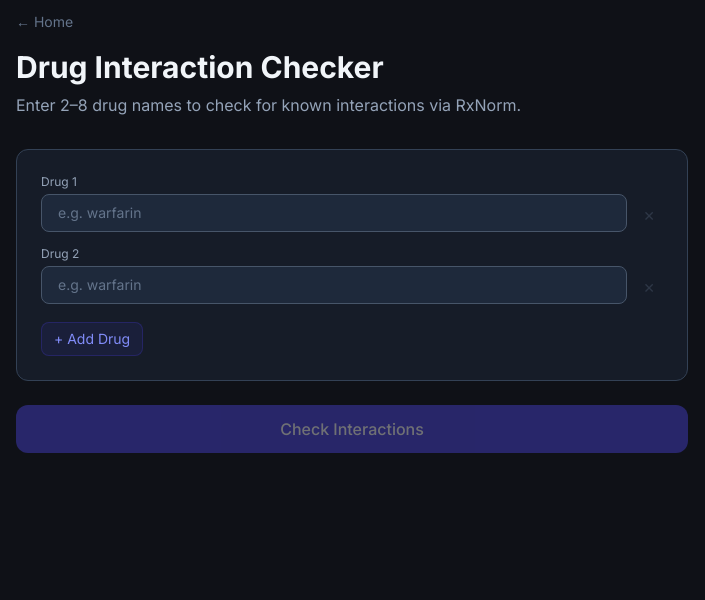
Test: InteractionsClient › shows no-interaction success message when empty interactions returned
In the field with test id "drug-input-0": [334, 213] box top-left (41, 194), bottom-right (627, 232), type "tylenol"
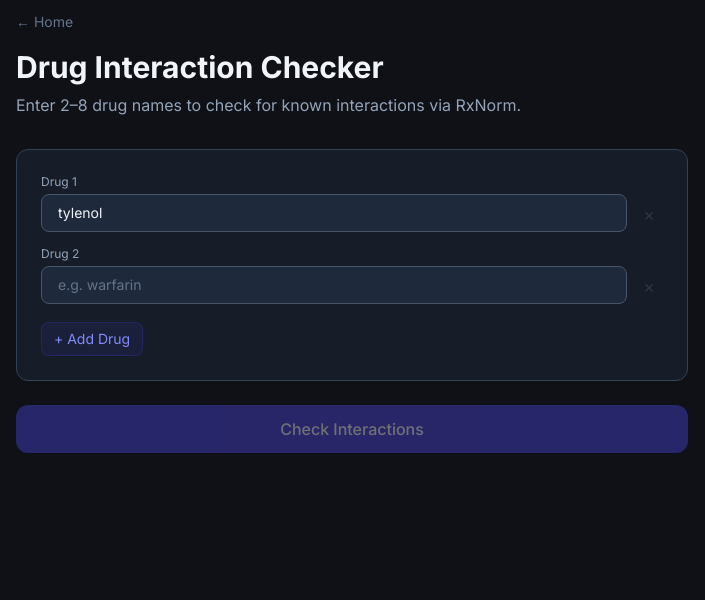
In the field with test id "drug-input-1": [334, 285] box top-left (41, 266), bottom-right (627, 304), type "ibuprofen"
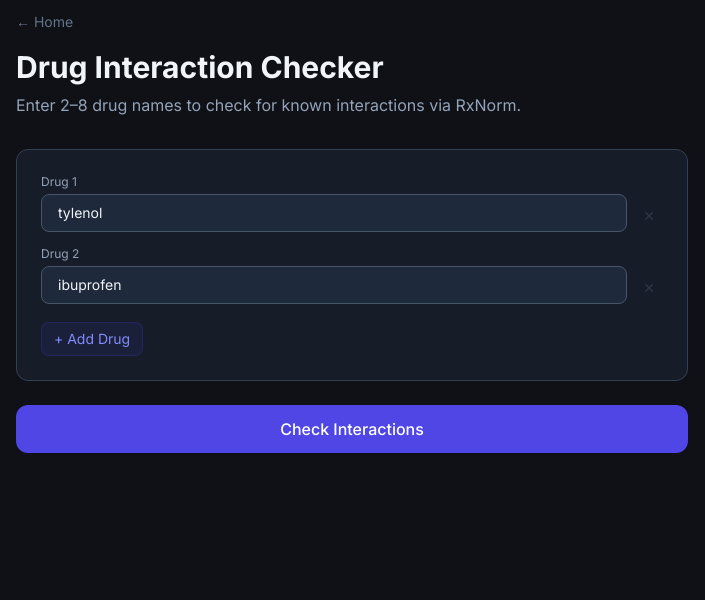
Click the button with test id "check-button": [352, 429] box top-left (16, 405), bottom-right (688, 453)
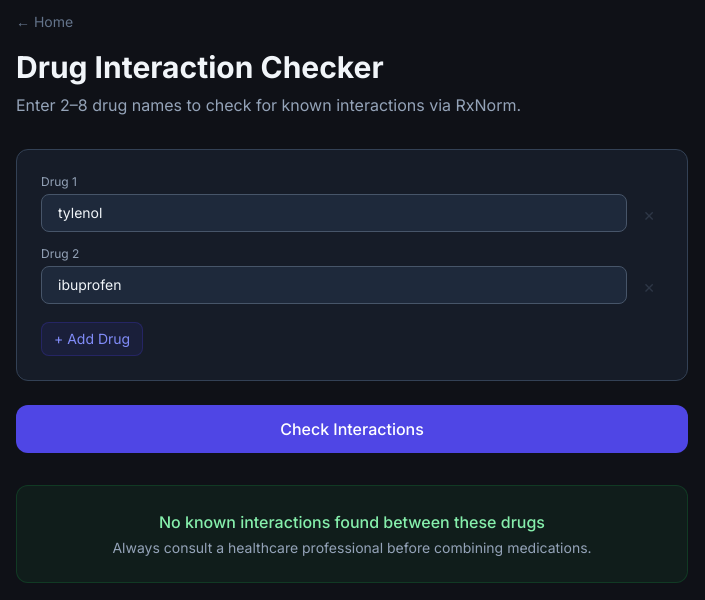
Now the text "No known interactions found between these drugs" is shown, box top-left (159, 512), bottom-right (545, 532)
